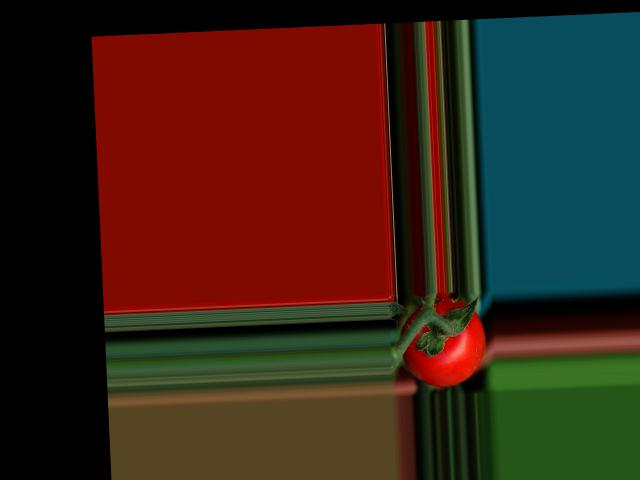tomato: (398, 292, 488, 388)
